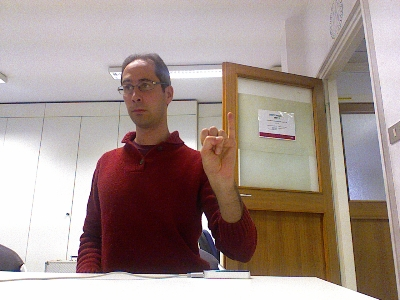小指: (199, 110, 237, 184)
